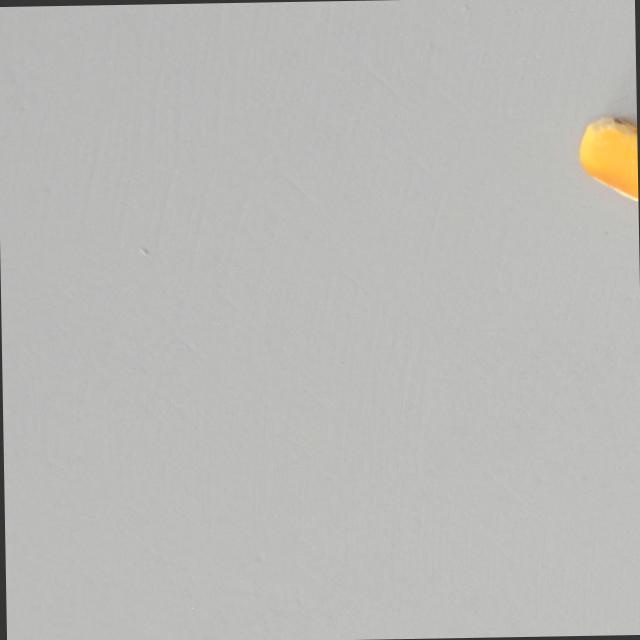pelicula: (577, 115, 638, 205)
